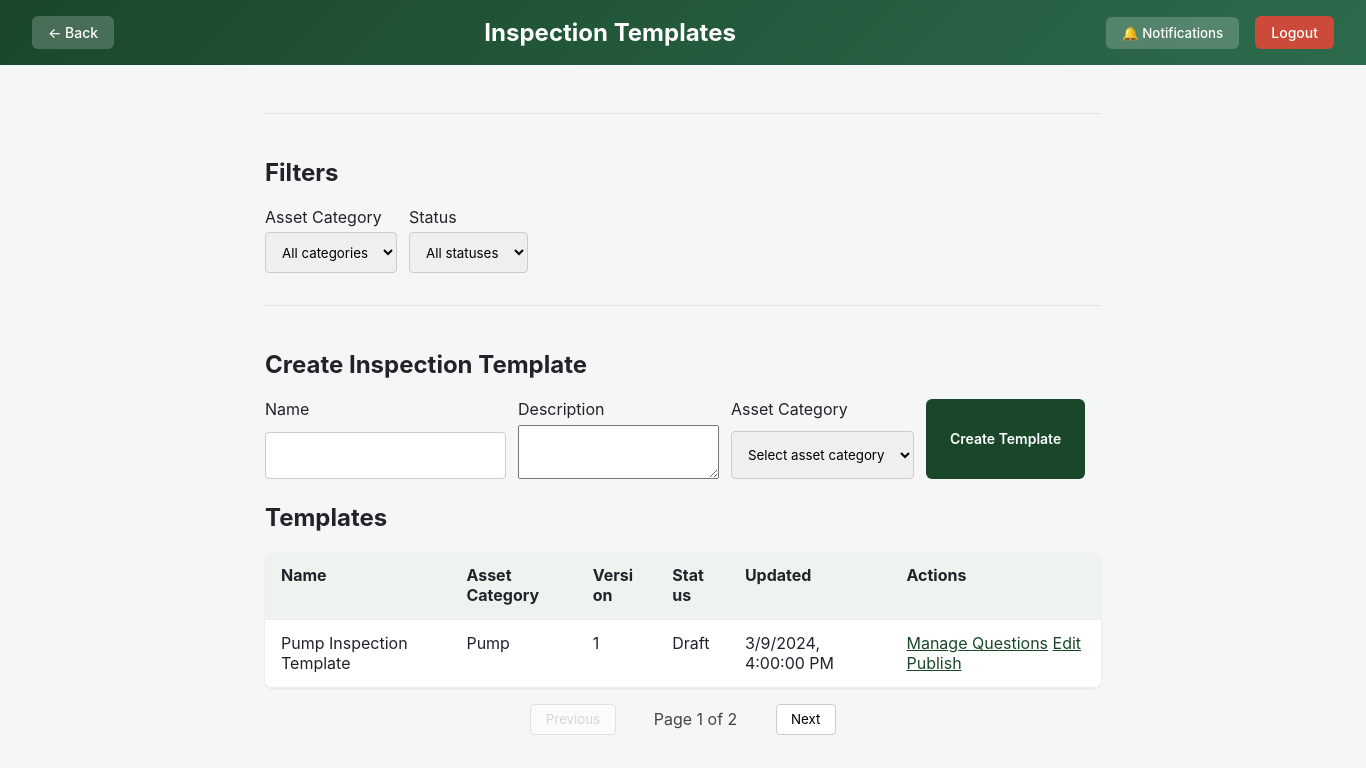
Test: InspectionTemplatesPage › loads next page when pagination next is clicked
Expected: the text "Pump Inspection Template" is shown, [265, 619, 450, 687]
Click the button with test id "pagination-next" at (806, 719), box [776, 704, 836, 735]
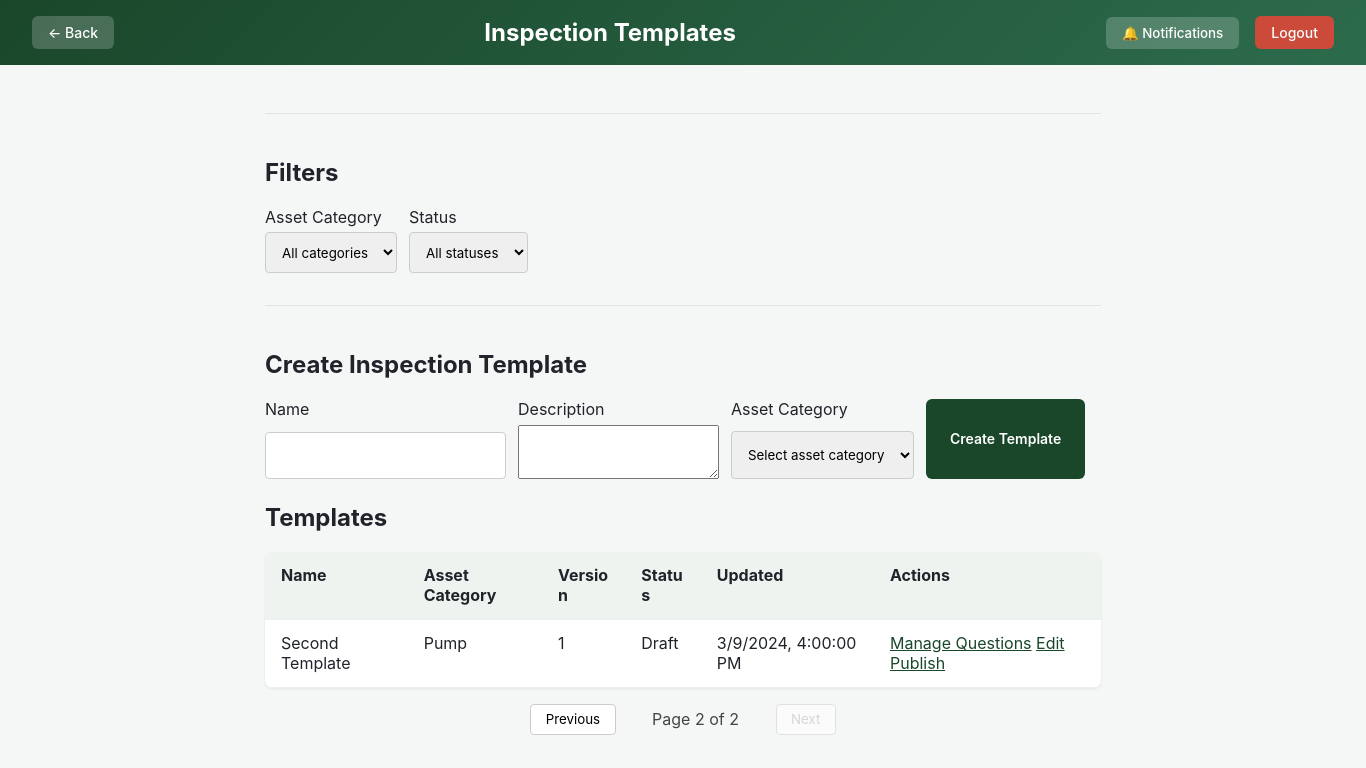
Expected: the text "Second Template" is shown, [265, 619, 408, 687]
